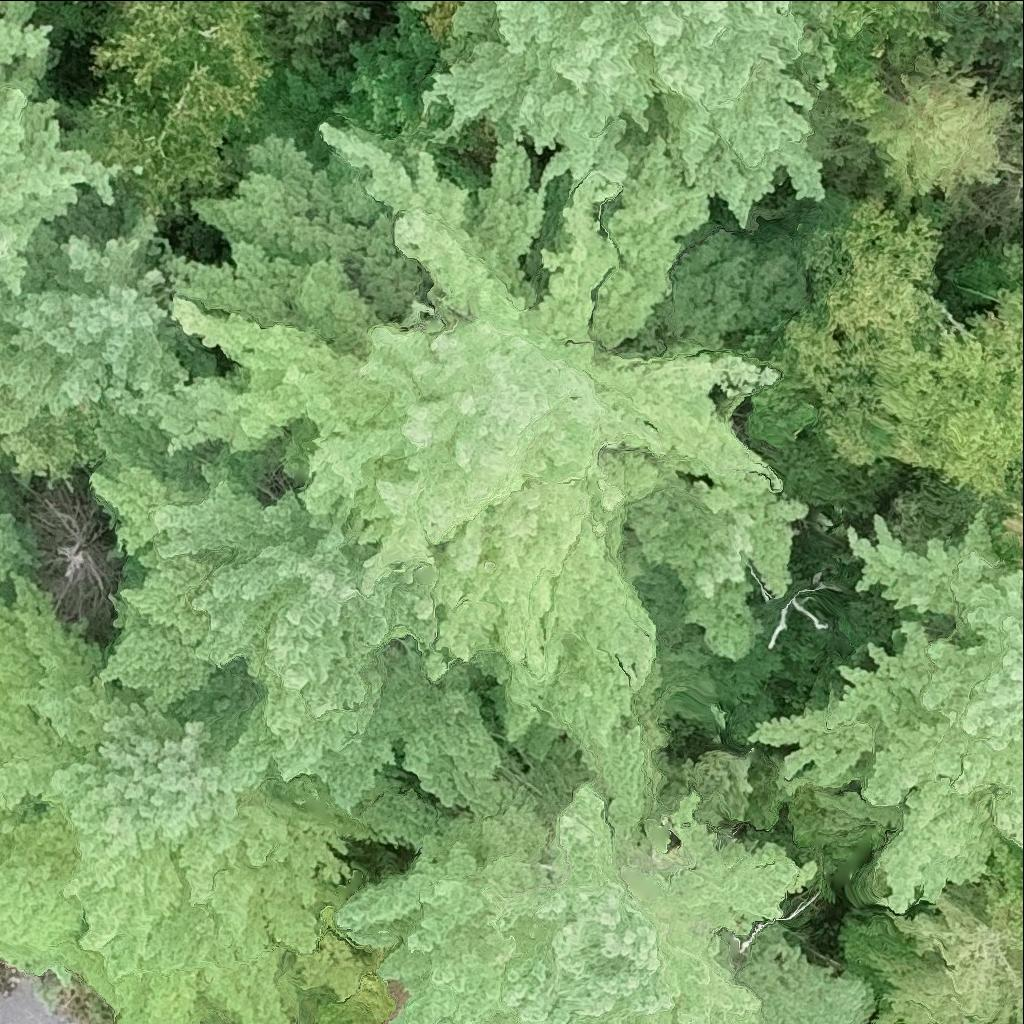crown: (128, 129, 795, 764), (0, 586, 449, 1023), (332, 704, 810, 1023), (419, 0, 840, 350), (745, 512, 1023, 918), (94, 443, 408, 776), (0, 0, 180, 433), (753, 195, 958, 470), (49, 70, 271, 235), (884, 245, 1023, 495), (313, 639, 500, 813), (840, 878, 1023, 1023), (855, 73, 1017, 197), (723, 922, 875, 1023), (94, 0, 284, 78), (26, 486, 122, 635), (522, 127, 591, 289), (0, 402, 125, 477), (968, 839, 1023, 948), (0, 474, 45, 599), (980, 502, 1023, 594), (997, 124, 1023, 193), (1012, 45, 1023, 81), (406, 0, 444, 9), (222, 1011, 250, 1023)
